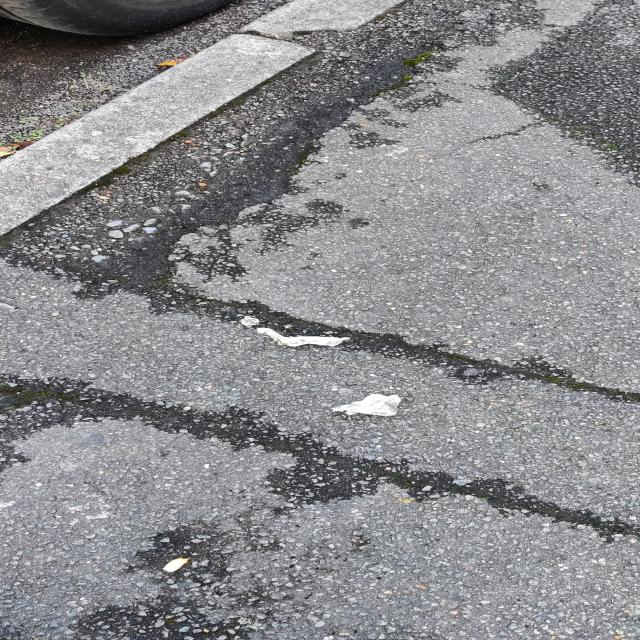litter: (215, 305, 359, 366), (334, 385, 426, 425)
